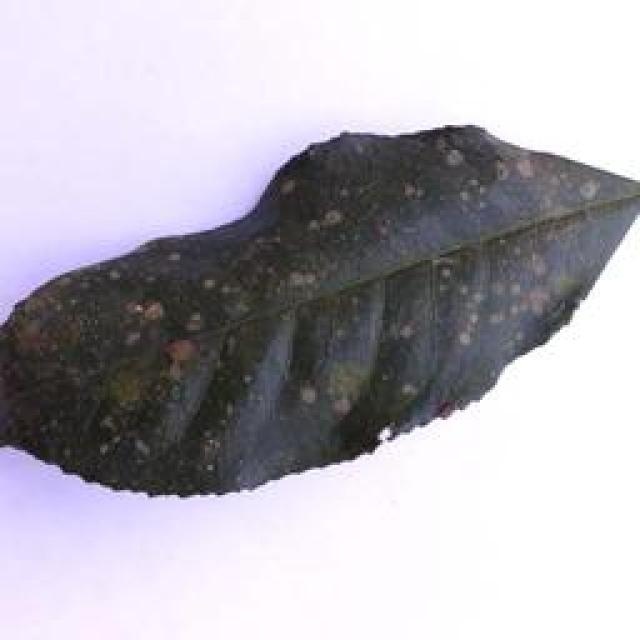Algal Leaf Spot: (0, 104, 634, 509)
